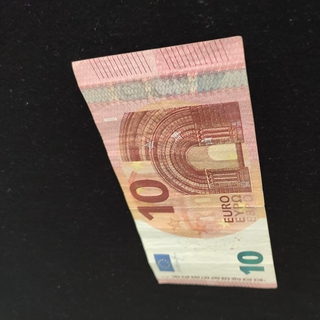10EUROFront: (70, 34, 278, 290)
